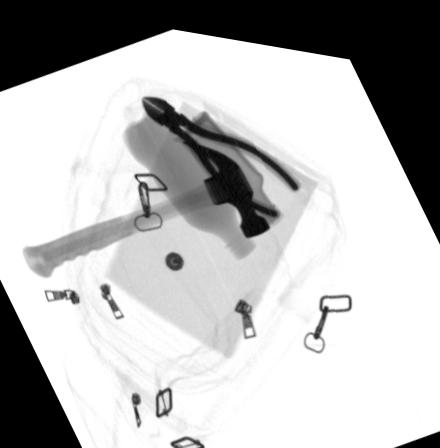Hammer: (20, 133, 269, 277)
Pliers: (139, 92, 298, 209)
